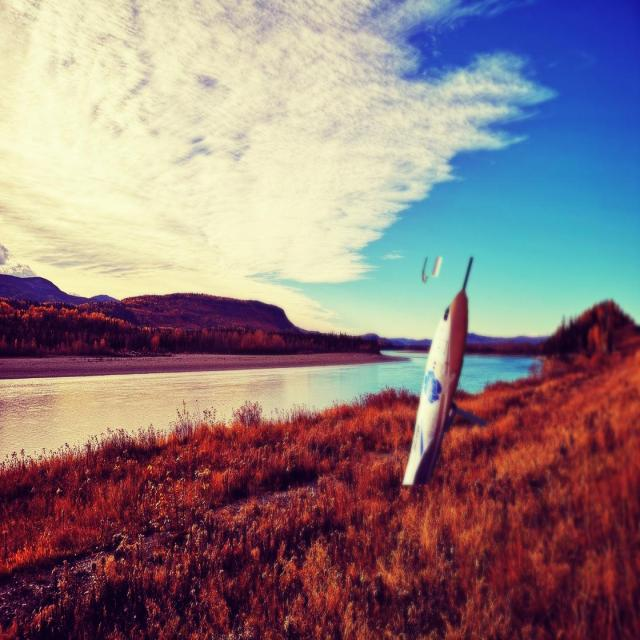airplane: (401, 255, 488, 486)
